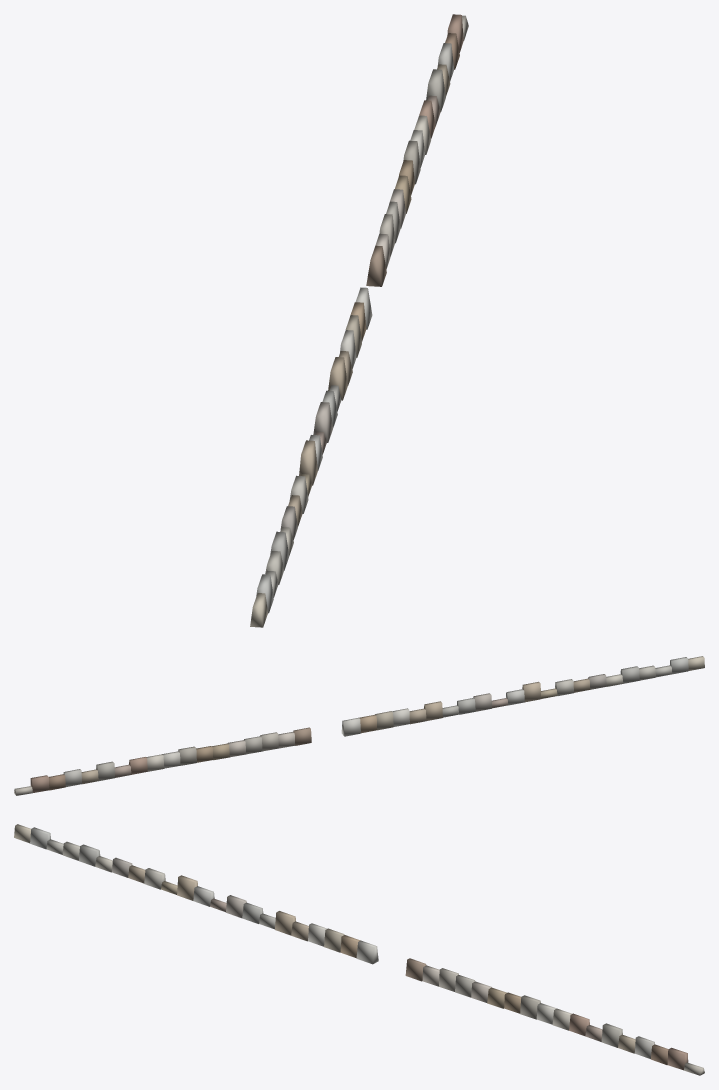
Rendered from farm_13_15_collision.glb.
3 renders of one model, top to bottom at view 1: azimuth 30°, elevation 25°; view 2: azimuth 150°, elevation 25°; view 3: azimuth 270°, elevation 25°, orthographic. The views are drawn at different scales.
Parts seen in each view (by area): view 1: geometry_0; view 2: geometry_0; view 3: geometry_0.
Part boxes in pixels (bbox=[...]): geometry_0: bbox=[250, 14, 468, 627]; geometry_0: bbox=[14, 656, 704, 795]; geometry_0: bbox=[14, 824, 704, 1075].
Bounding box in the file's own units: 41.58 × 2.22 × 53.07.
